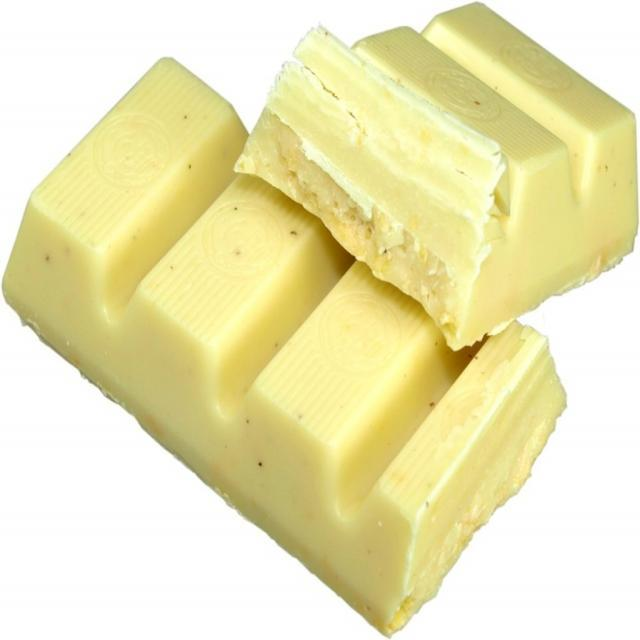Cheese: (3, 53, 569, 634), (231, 0, 639, 352)
